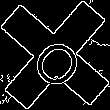O_NE: (22, 22, 88, 88)
